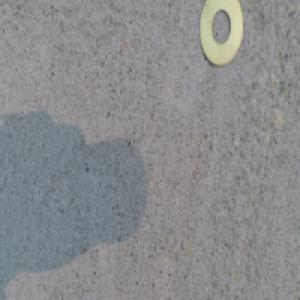Washer: (198, 1, 245, 65)
